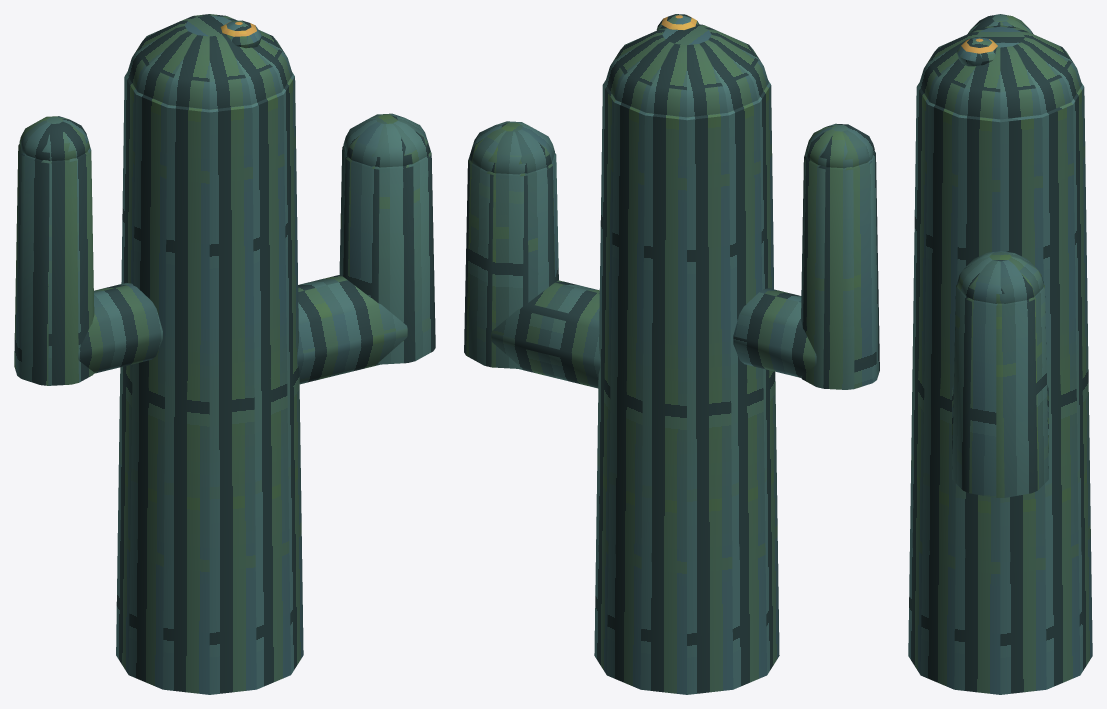
File: spec_cactus_0.glb
3 views of the same model, side by side, from view 1: azimuth 30°, elevation 25°; view 2: azimuth 150°, elevation 25°; view 3: azimuth 270°, elevation 25° (orthographic).
Parts seen in each view (by area): view 1: spec_cactus_0; view 2: spec_cactus_0; view 3: spec_cactus_0.
Boxes of the visible parts, box(x1,y1,x2,y2) form: spec_cactus_0: box(14, 14, 435, 694); spec_cactus_0: box(464, 14, 879, 694); spec_cactus_0: box(908, 14, 1092, 694).
Bounding box in the file's own units: 1.11 × 1.64 × 0.44.
Materials: 2 (2 with a texture image).
